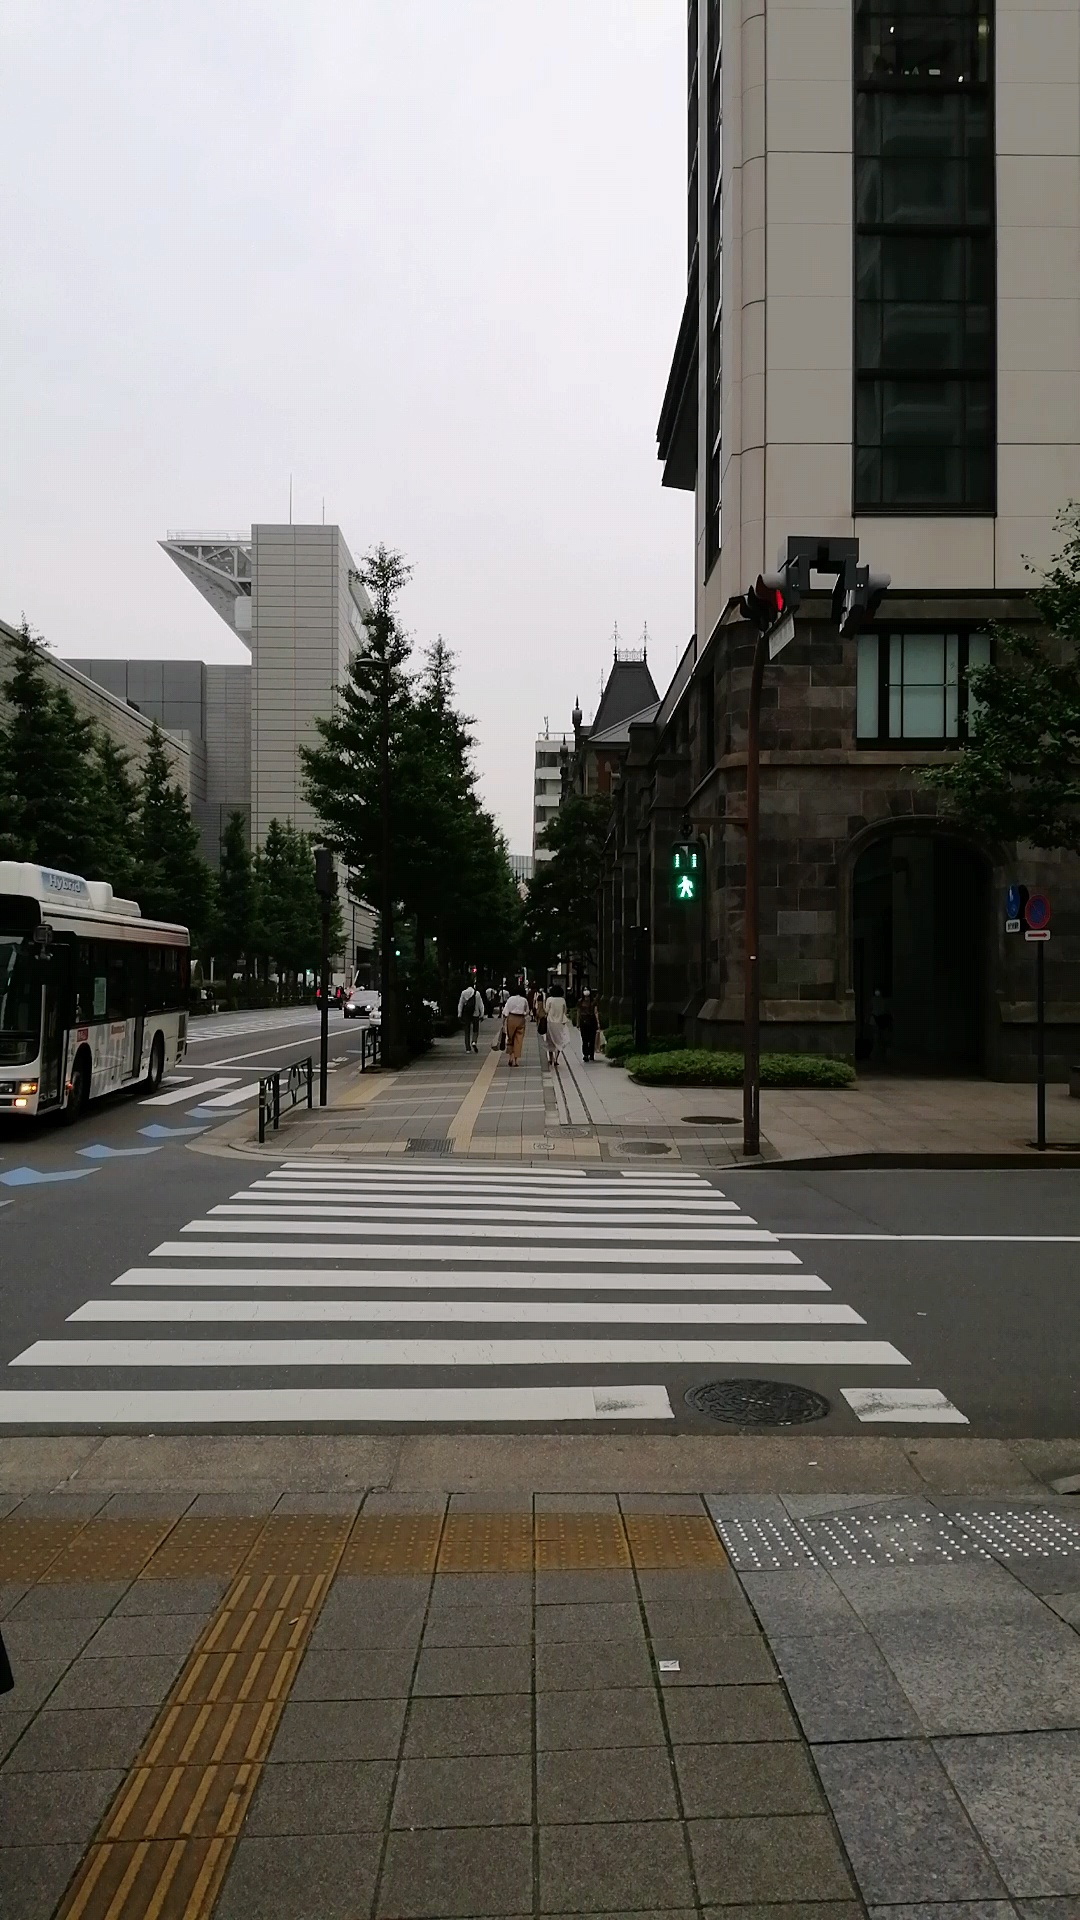green: (666, 837, 704, 906)
